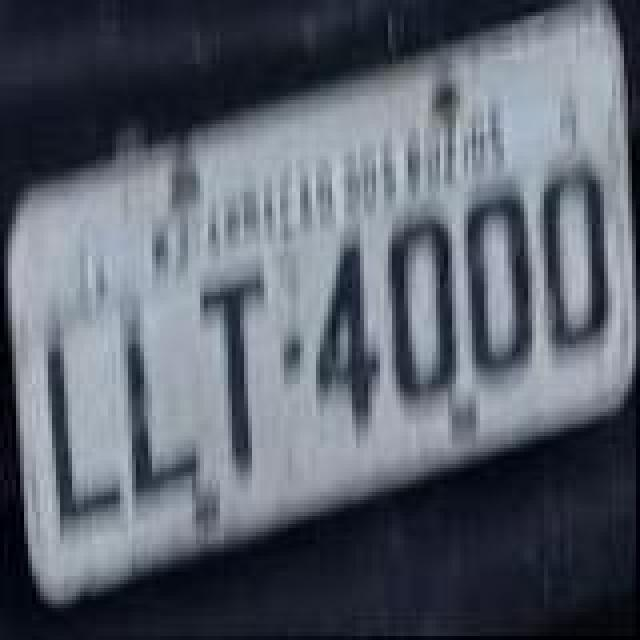4: (316, 234, 384, 450)
L: (42, 334, 122, 530), (130, 330, 202, 502)
O: (386, 212, 458, 408), (466, 188, 538, 384), (538, 164, 610, 348)
T: (196, 272, 264, 468)
